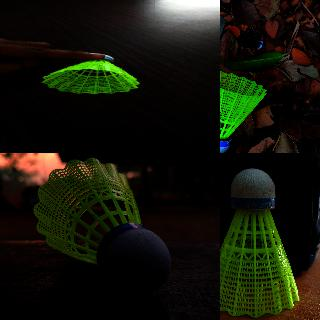shuttlecock: (32, 158, 170, 292), (220, 168, 300, 319), (220, 68, 267, 152), (41, 55, 137, 94)
